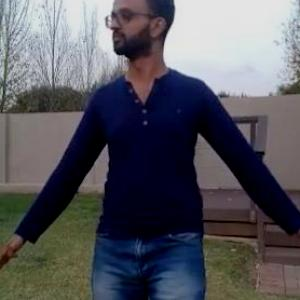land: (6, 2, 299, 299)
